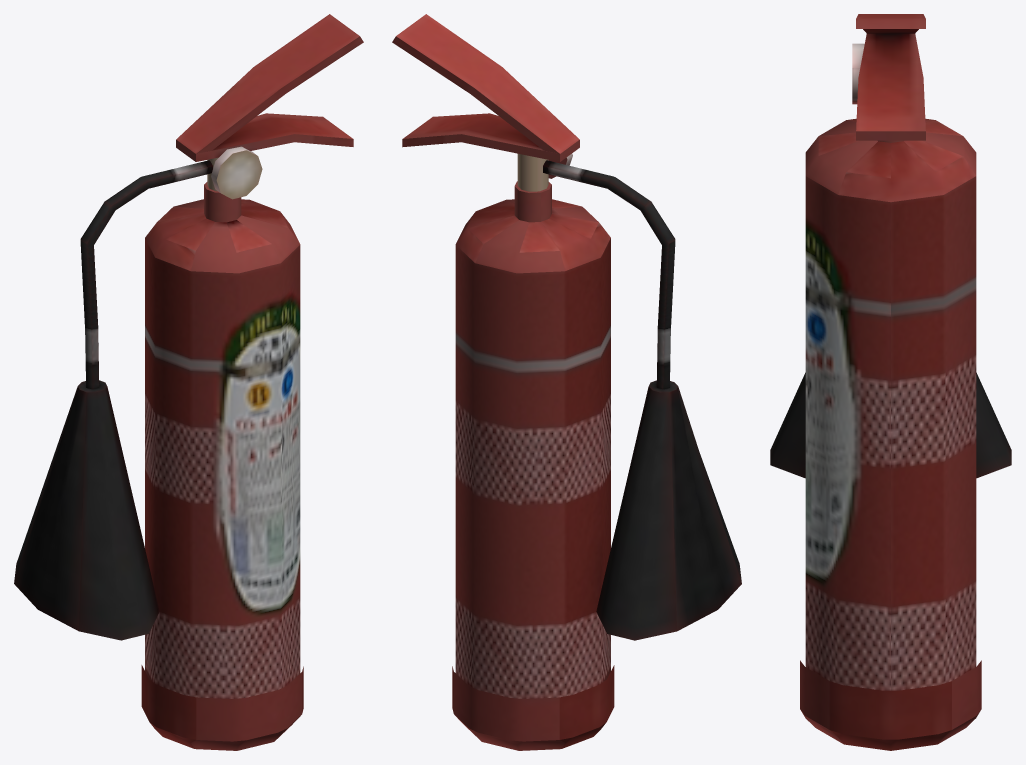
Rendered from co2extinguisher.gltf.
3 views of the same model, side by side, from view 1: azimuth 30°, elevation 25°; view 2: azimuth 150°, elevation 25°; view 3: azimuth 270°, elevation 25° (orthographic). The views are drawn at different scales.
Visible parts, largest first — view 1: co2extinguisher; view 2: co2extinguisher; view 3: co2extinguisher.
Boxes of the visible parts, bbox=[...] form: co2extinguisher: bbox=[14, 14, 363, 750]; co2extinguisher: bbox=[392, 14, 741, 750]; co2extinguisher: bbox=[770, 14, 1011, 750].
Size of the model in its own units: 1.9 by 3.89 by 1.11.
Materials: 1 (1 with a texture image).
